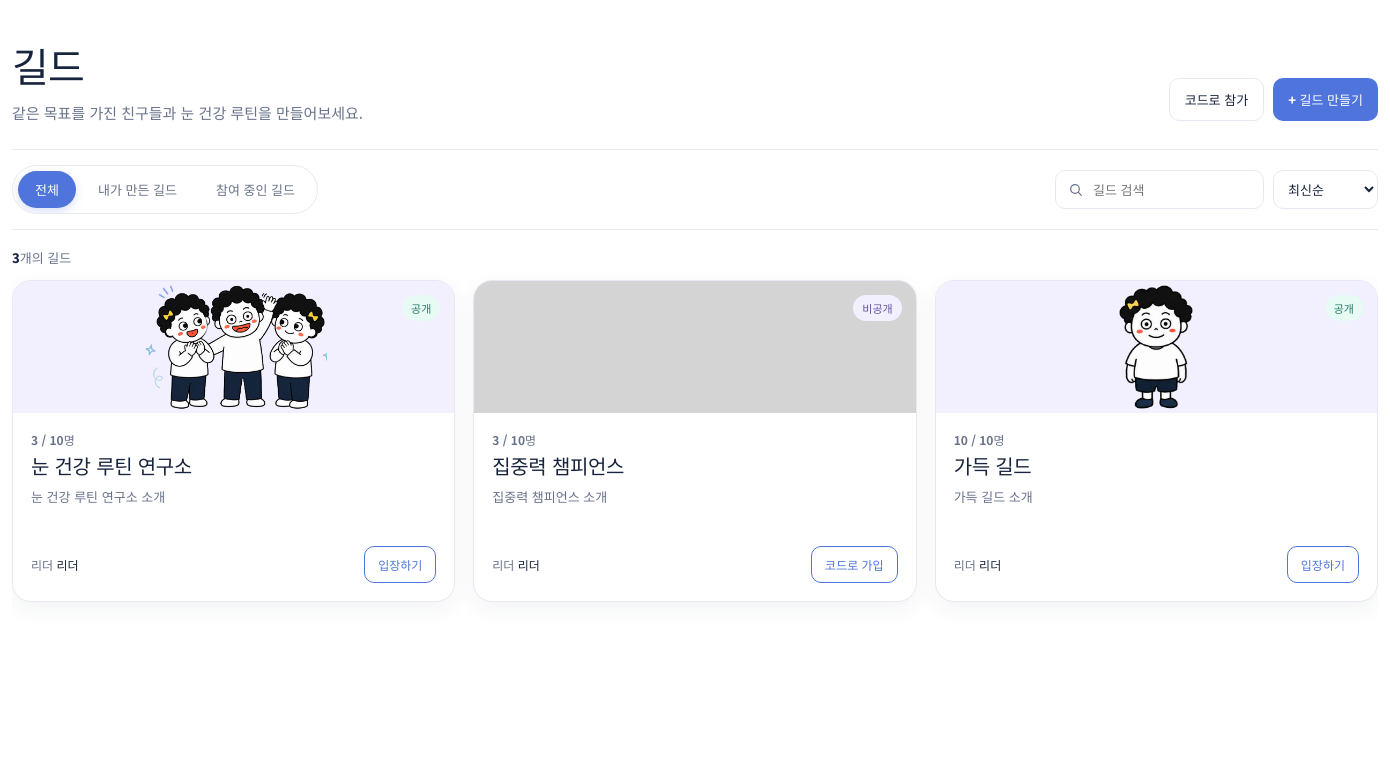
Test: CommunityPage › 검색어는 custom X 버튼 하나로 초기화할 수 있다
In the search field with test id "community-search": x=1171, y=190 x1=1091 y1=179 x2=1251 y2=200, type "집중"
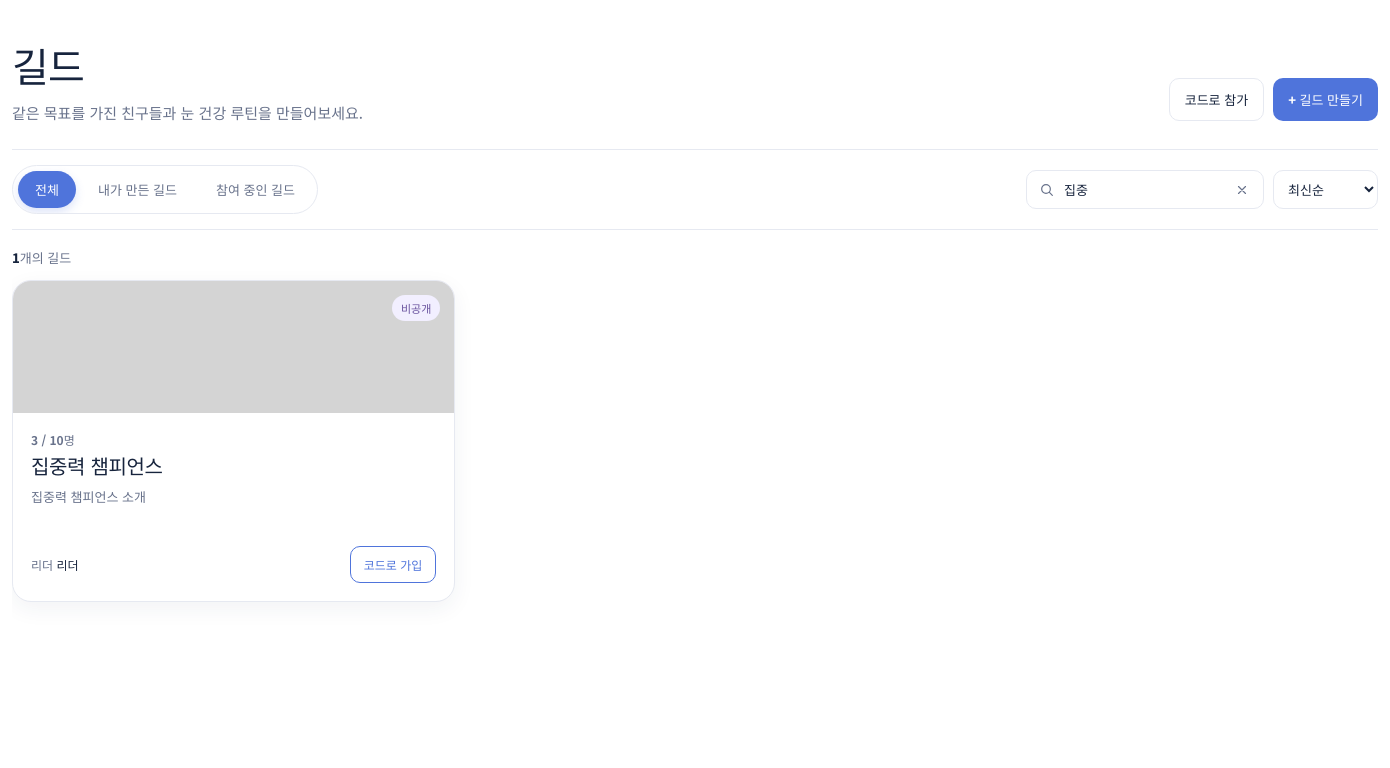
Now the number of elements with class "community-group-card" is 1, box x1=12 y1=280 x2=455 y2=602
Now the number of buttons with class "community-page__search-clear" is 1
Click the button with class "community-page__search-clear": x=1240, y=190 x1=1229 y1=178 x2=1251 y2=200
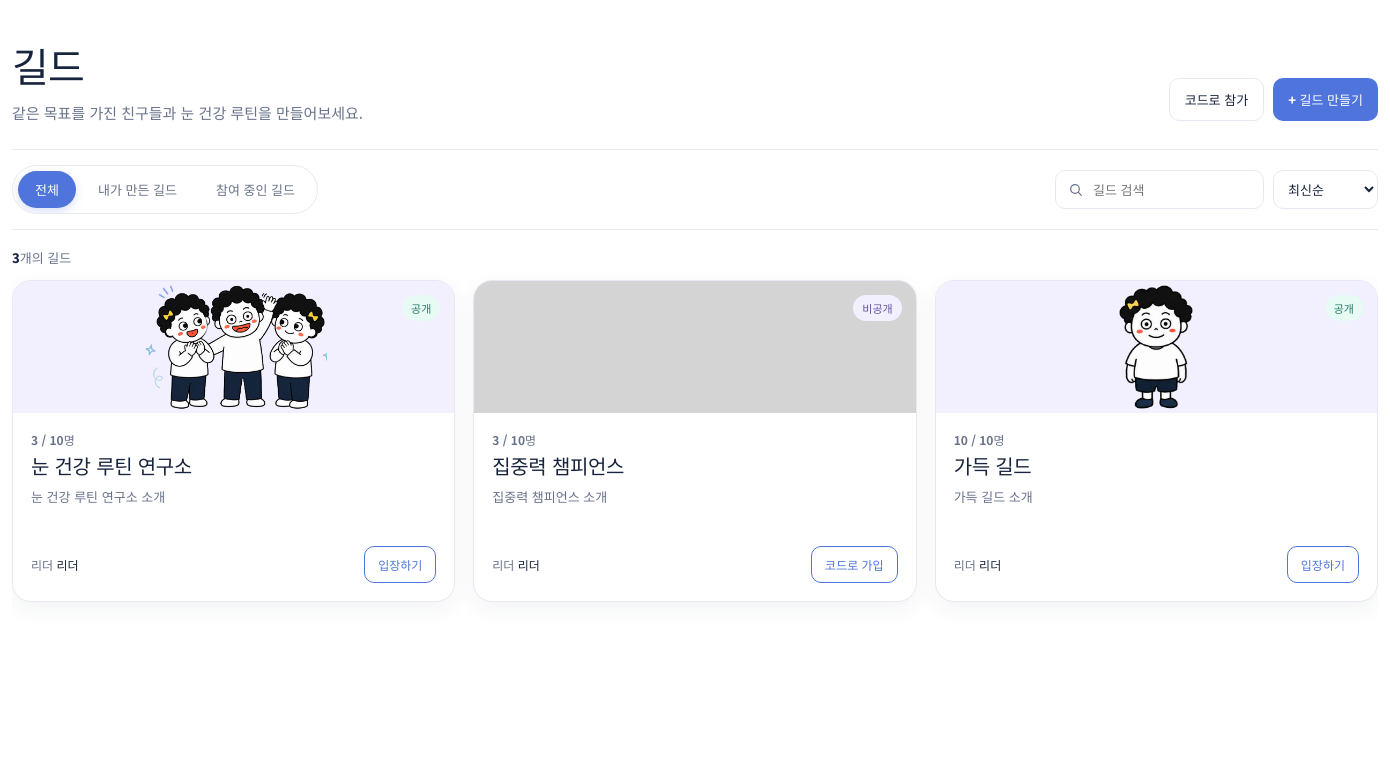
Now the search field with test id "community-search" is empty, box x1=1091 y1=179 x2=1251 y2=200
Now the number of elements with class "community-group-card" is 3, box x1=12 y1=280 x2=455 y2=602; x1=473 y1=280 x2=917 y2=602; x1=935 y1=280 x2=1378 y2=602
Now no buttons with class "community-page__search-clear" are shown
